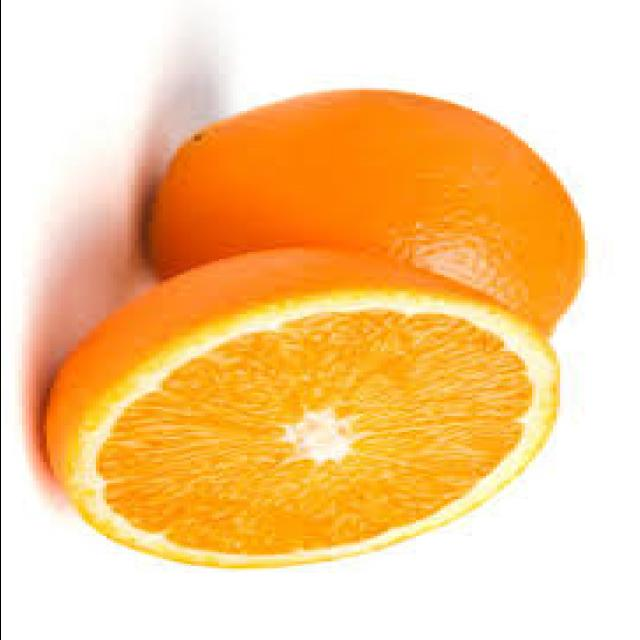orange: (40, 257, 552, 572)
